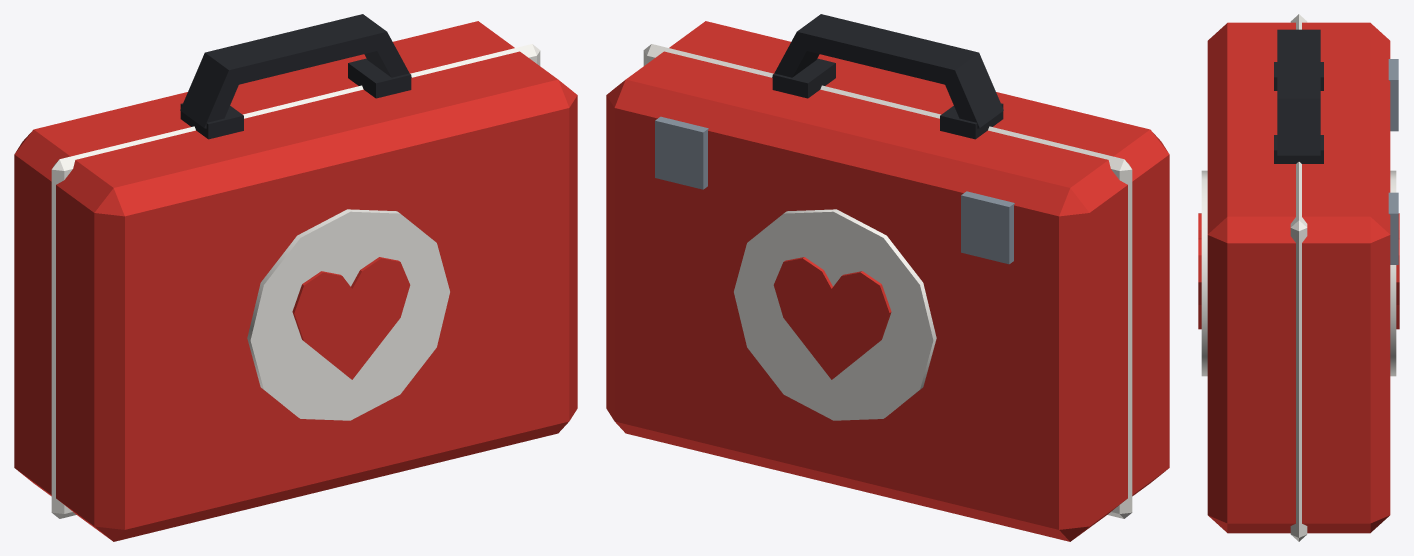
Rendered from medkit.glb.
3 renders of one model, left to right at view 1: azimuth 30°, elevation 25°; view 2: azimuth 150°, elevation 25°; view 3: azimuth 270°, elevation 25°, orthographic. The views are drawn at different scales.
Parts seen in each view (by area): view 1: Body; view 2: Body; view 3: Body.
Boxes of the visible parts, <box> form: Body: <box>14,14,577,541</box>; Body: <box>606,14,1169,541</box>; Body: <box>1198,14,1399,541</box>.
Bounding box in the file's own units: 0.3035 × 0.2487 × 0.1212.
